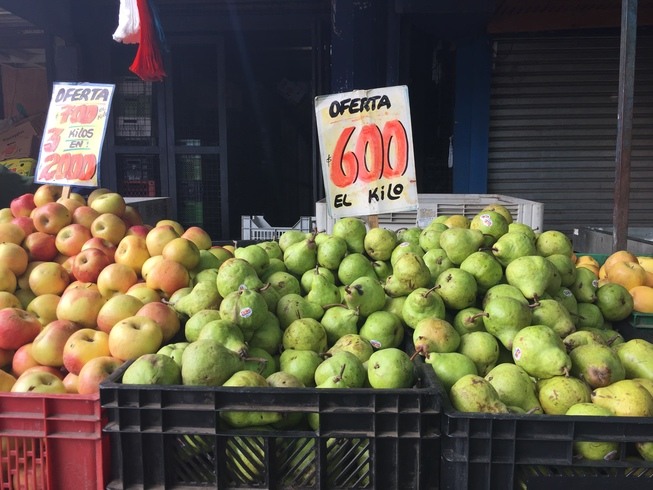precio: (308, 82, 430, 231), (32, 76, 125, 188)
